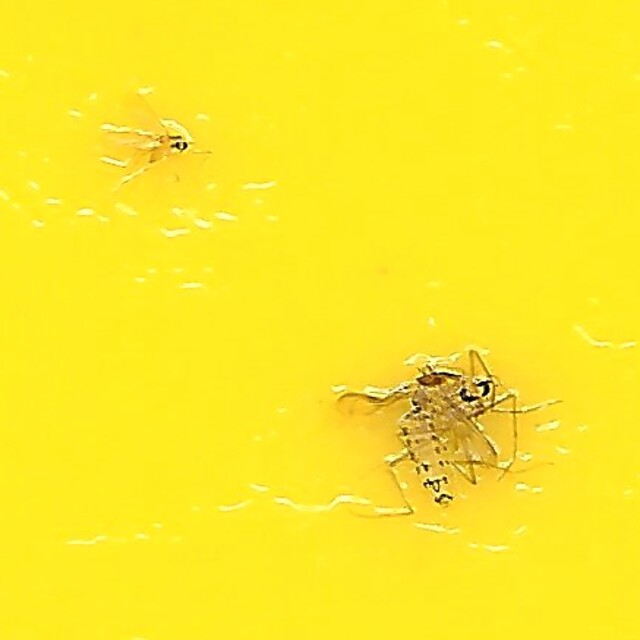Nematocera: (400, 369, 494, 512), (146, 128, 192, 169)
